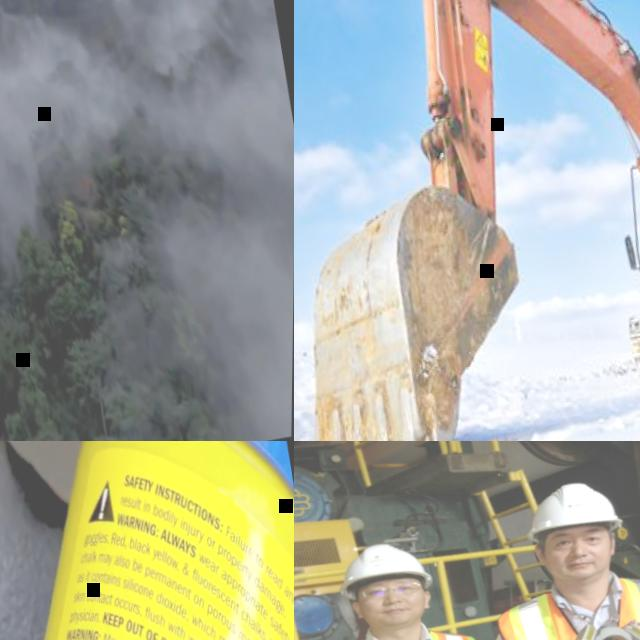Hardhat: (519, 475, 630, 543), (335, 534, 433, 595)
NO-Mask: (368, 600, 429, 629), (555, 552, 609, 584)
Person: (439, 459, 640, 640), (294, 520, 560, 640)
Safety Vest: (489, 568, 640, 640)
vehicle: (294, 0, 640, 441)
